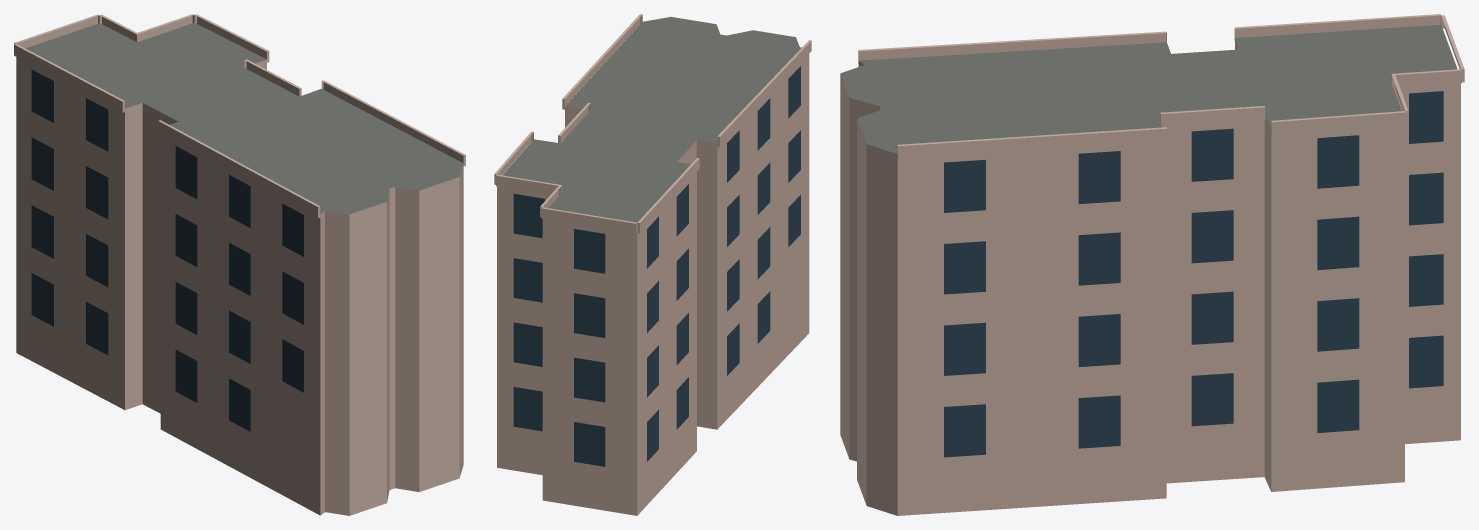
3 renders of one model, left to right at view 1: azimuth 30°, elevation 25°; view 2: azimuth 150°, elevation 25°; view 3: azimuth 270°, elevation 25°, orthographic. The views are drawn at different scales.
Parts seen in each view (by area): view 1: Footprint 0 / surface 2, Footprint 0 / surface 1, Inset glazing, Facade bay volumes; view 2: Footprint 0 / surface 2, Footprint 0 / surface 1, Inset glazing, Facade bay volumes; view 3: Footprint 0 / surface 2, Footprint 0 / surface 1, Inset glazing, Facade bay volumes.
Boxes of the visible parts, box(x1,y1,x2,y2) form: Footprint 0 / surface 2: box(16, 57, 463, 515); Footprint 0 / surface 1: box(25, 23, 463, 214); Inset glazing: box(31, 69, 303, 431); Facade bay volumes: box(14, 14, 465, 217); Footprint 0 / surface 2: box(497, 54, 809, 515); Footprint 0 / surface 1: box(503, 17, 801, 222); Inset glazing: box(513, 66, 800, 466); Facade bay volumes: box(494, 14, 811, 234); Footprint 0 / surface 2: box(840, 38, 1460, 515); Footprint 0 / surface 1: box(840, 24, 1457, 153); Inset glazing: box(944, 91, 1443, 457); Facade bay volumes: box(858, 14, 1464, 159).
Bounding box in the file's own units: 10.67 × 13.96 × 21.27.
